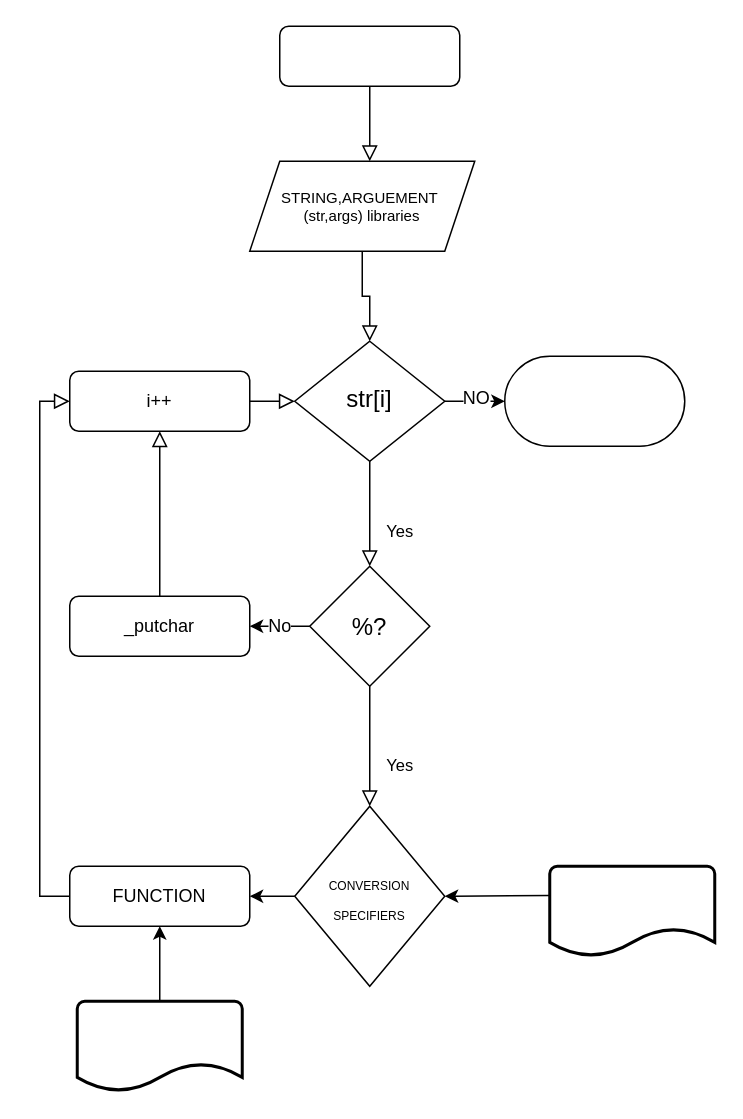
This 743x1119 diagram has some shape labels left out. The box of each missing label's shape, as (x1, y1, x2, y2) in pixels:
PROTOTYPES: (75, 999, 243, 1092)
START: (278, 25, 460, 86)
STOP: (503, 355, 685, 446)
STRUCT: (548, 864, 716, 957)
